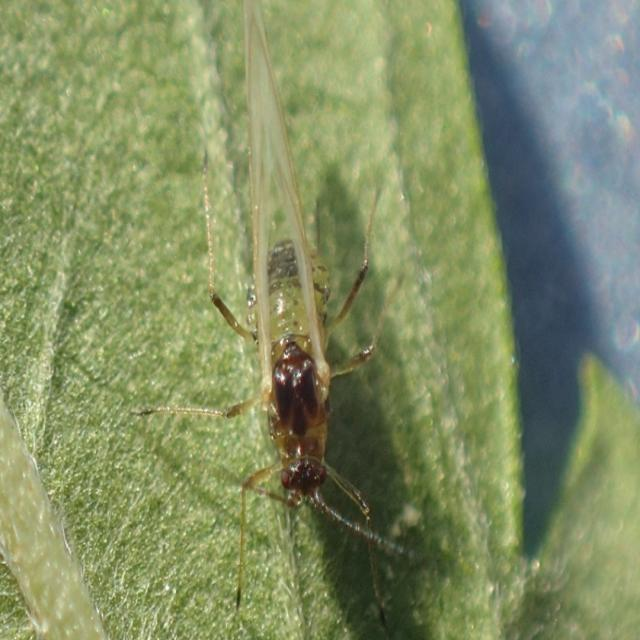Aphid-Grown-have wings-: (199, 2, 416, 564)
